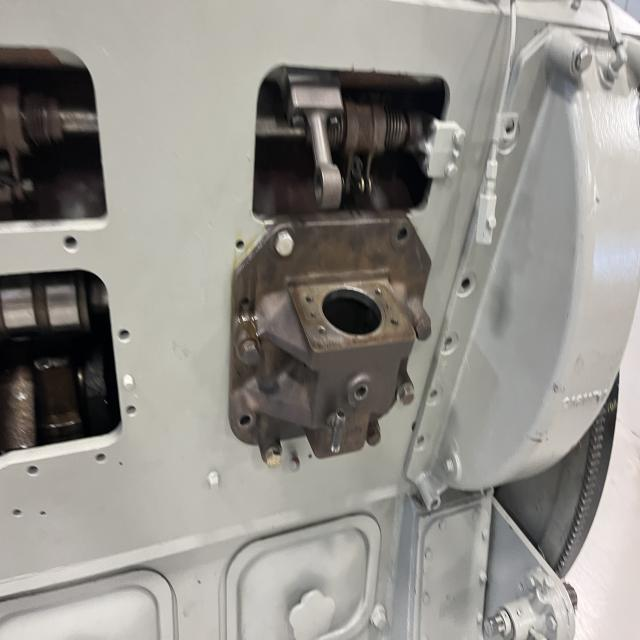Oil Leak: (221, 228, 274, 352)
